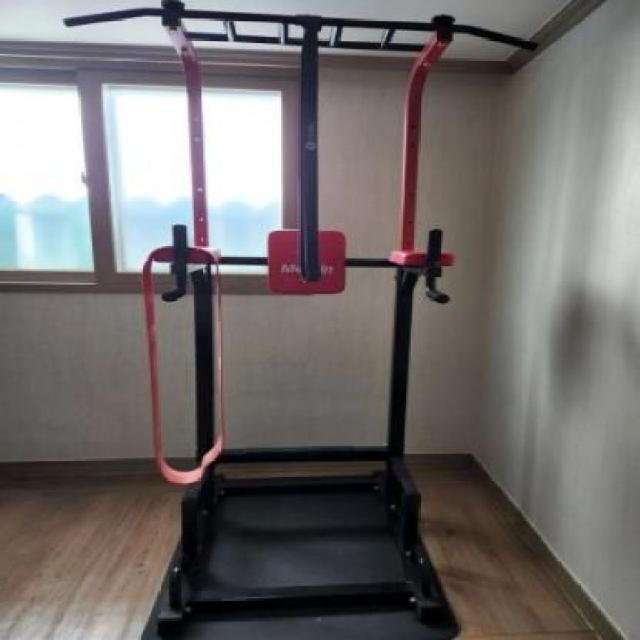chinning dipping: (58, 0, 537, 637)
